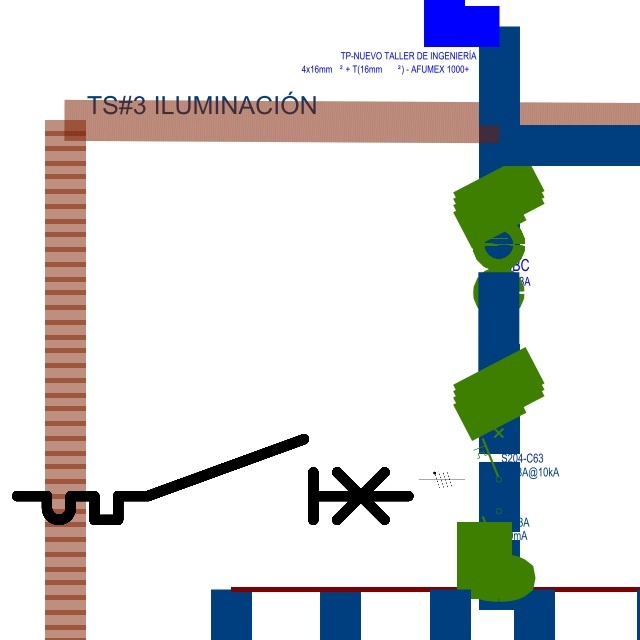interruptor_termomagnetico: (7, 429, 418, 530)
